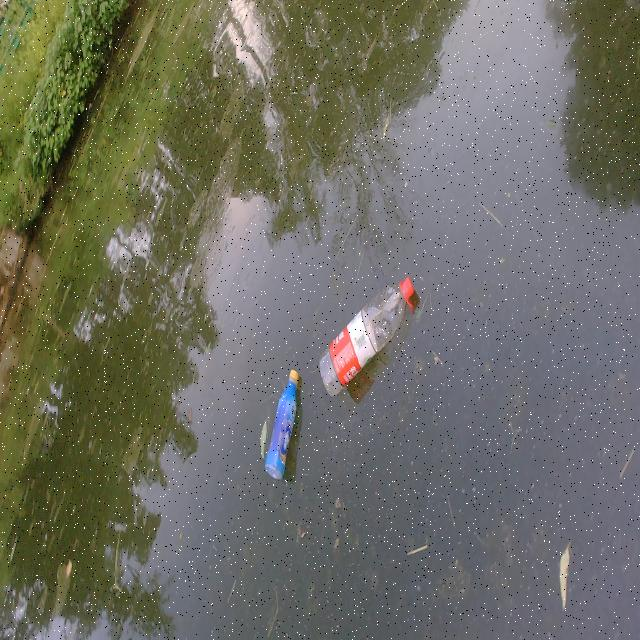Bottle: (314, 270, 418, 398), (263, 367, 301, 482)
